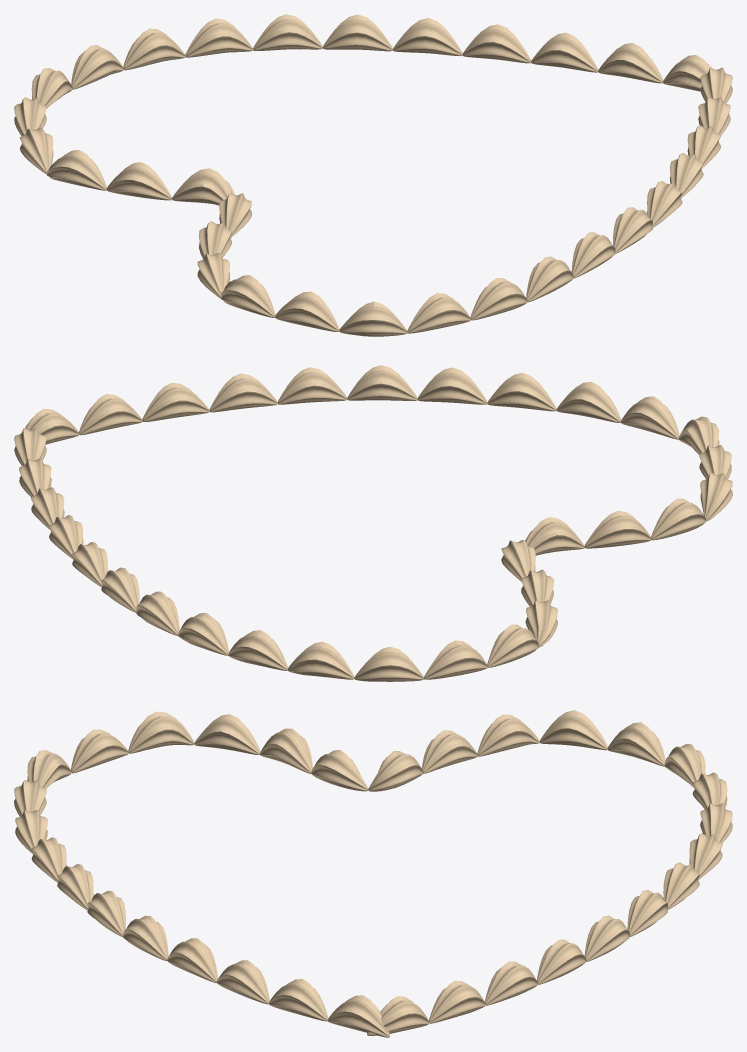
Rendered from DecoGlazeCream.glb.
3 views of the same model, one above another, from view 1: azimuth 30°, elevation 25°; view 2: azimuth 150°, elevation 25°; view 3: azimuth 270°, elevation 25° (orthographic).
Parts seen in each view (by area): view 1: Star.028; view 2: Star.028; view 3: Star.028.
Part boxes in pixels (x1,y1,x2,y2): Star.028: (14,14,732,336); Star.028: (14,365,732,681); Star.028: (14,710,732,1037).
Size of the model in its own units: 1.57 by 0.0968 by 1.61.
